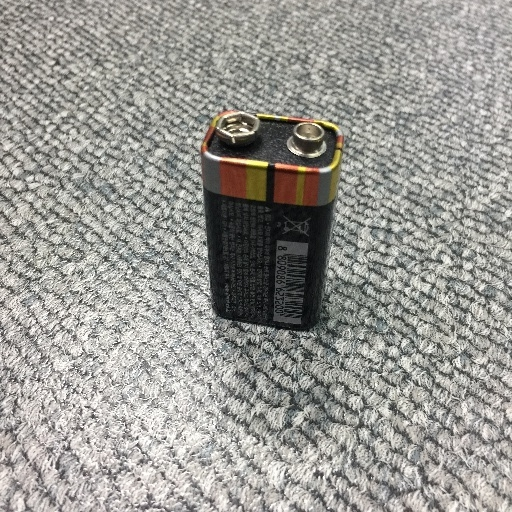Battery_3: (190, 97, 353, 355)
